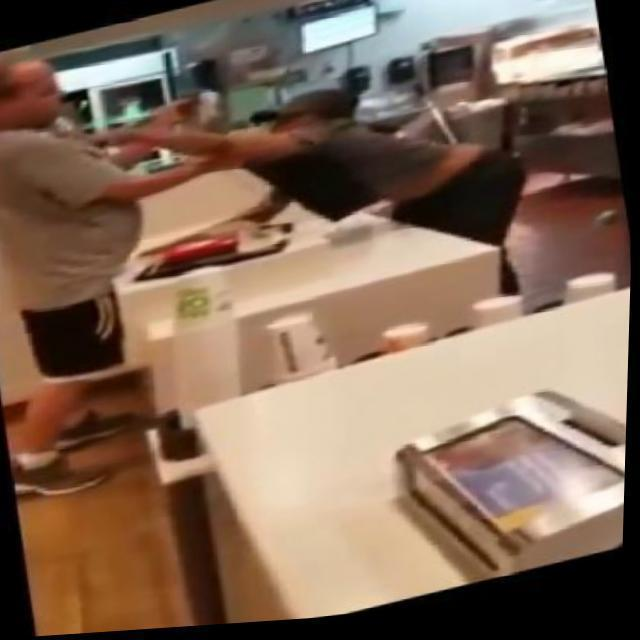fight: (0, 0, 561, 364)
